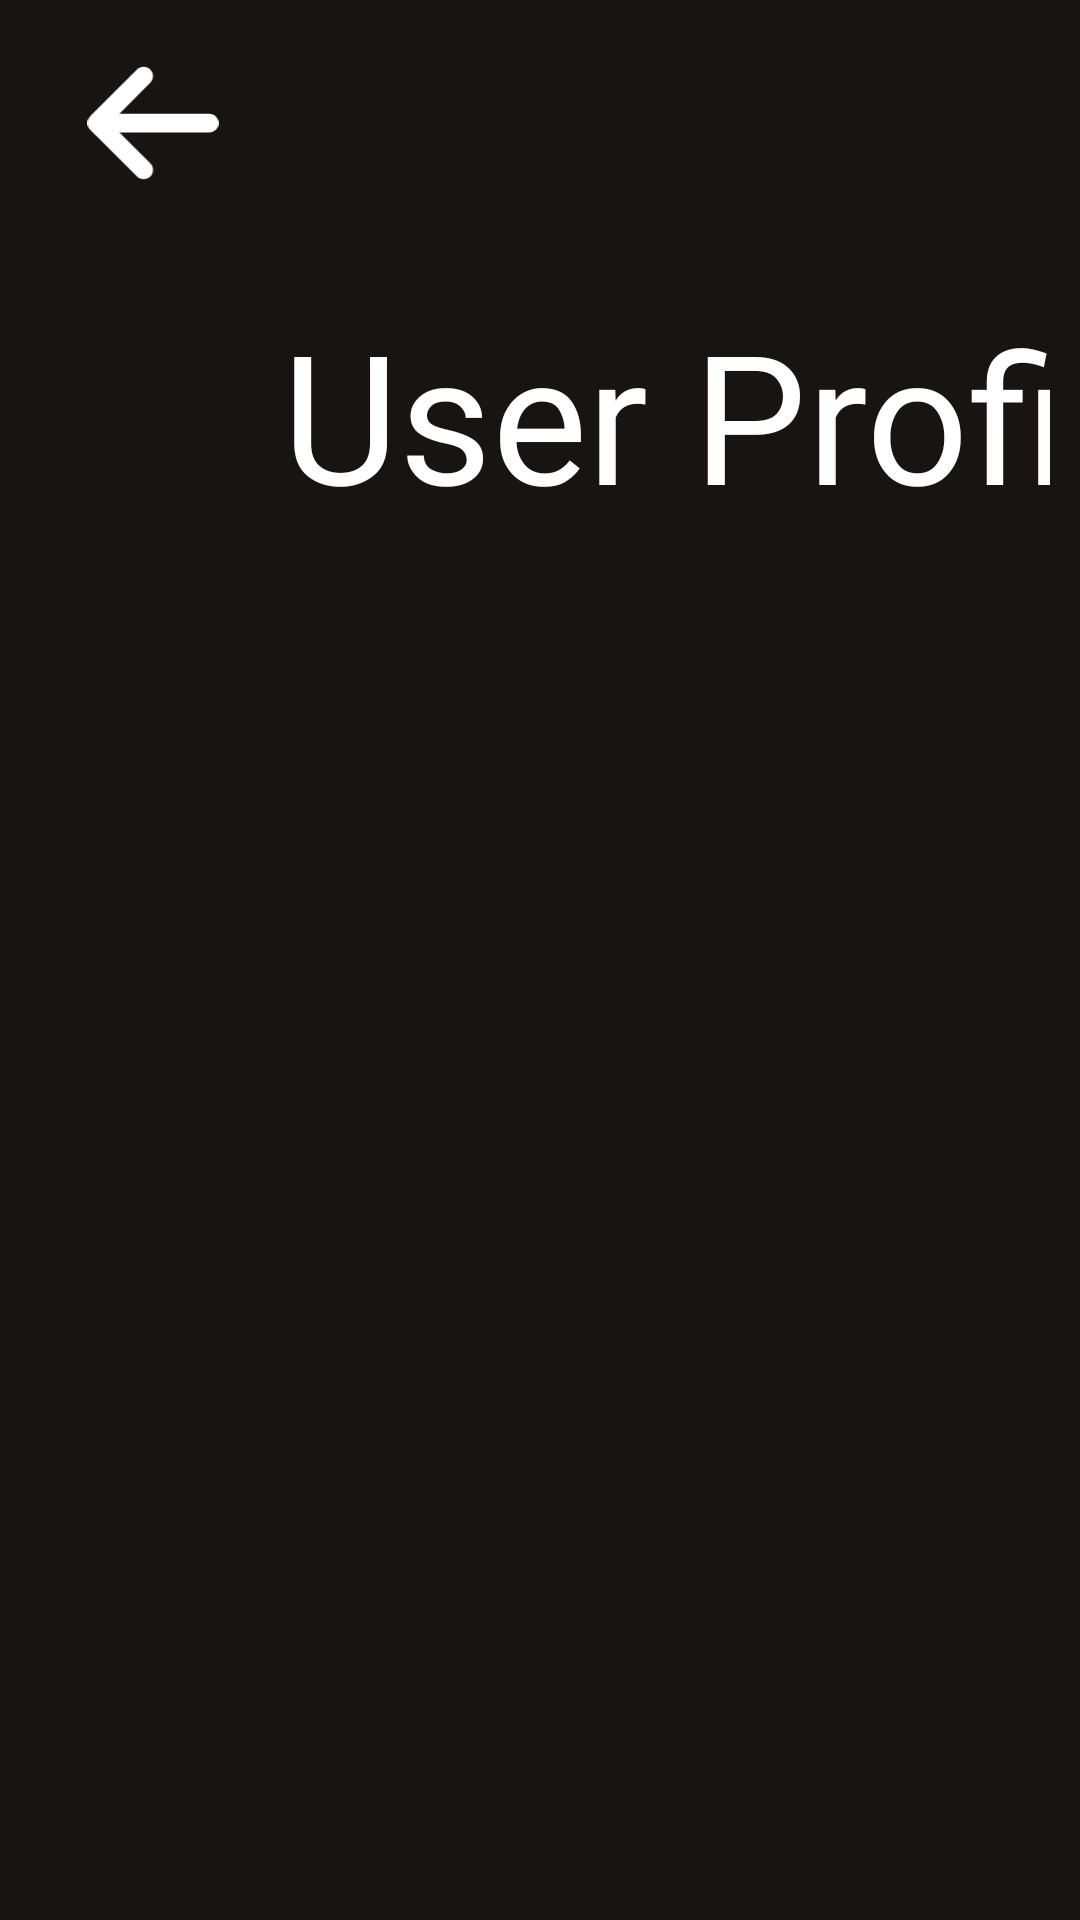

Named icons in this screenshot (1080x1920) and their centers, [x,y]:
arrow left: [153,123]
